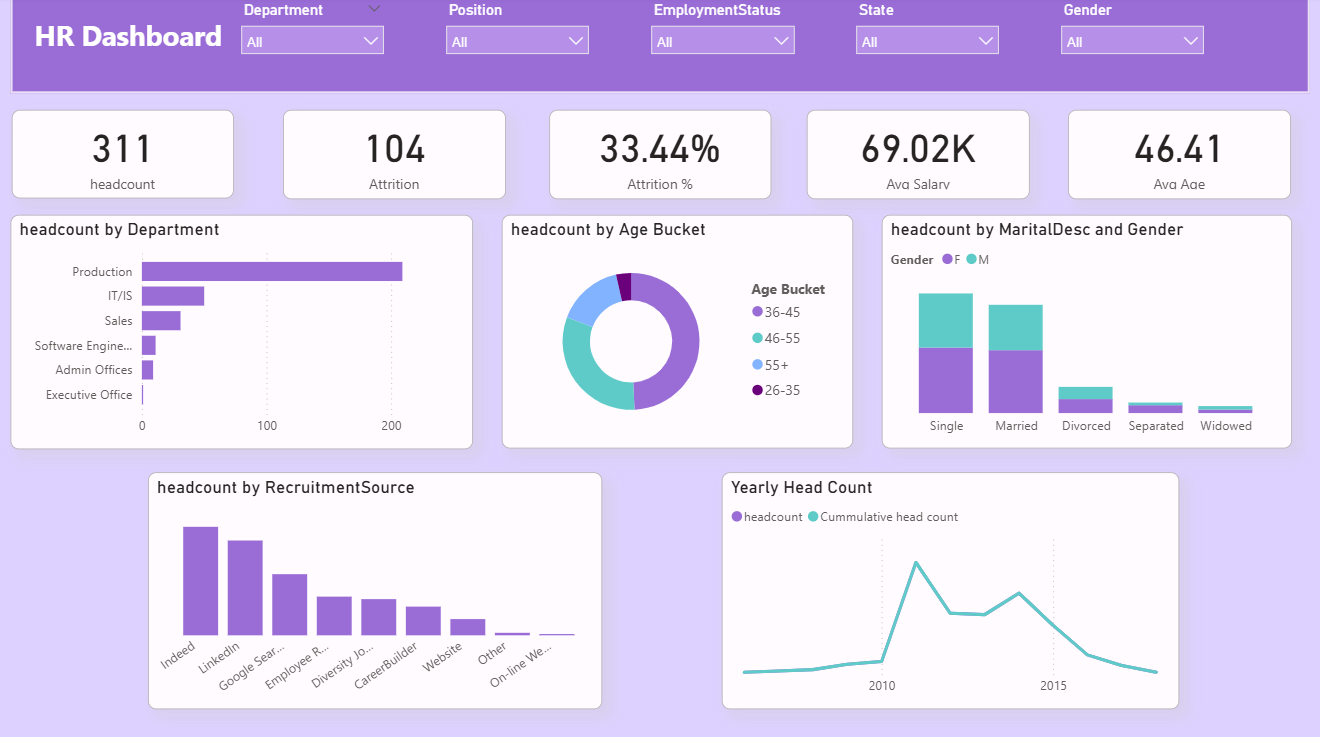

This screenshot's page, from the dashboard's own definition file:
{"tool":"powerbi","page":{"name":"Page 1","canvas":[1280,720],"ordinal":0},"visuals":[{"type":"shape","box":[12,0,1254,94],"z":0},{"type":"card","fields":{"Values":["measure.headcount"]},"box":[12.9,110,214.3,85.7],"z":1000},{"type":"card","fields":{"Values":["measure.Attrition"]},"box":[275.4,109.7,215,86],"z":2000},{"type":"card","fields":{"Values":["measure.Attrition %"]},"box":[532,109.7,214,86],"z":3000},{"type":"card","fields":{"Values":["measure.Avg Salary"]},"box":[780,109.7,215,86],"z":4000},{"type":"card","fields":{"Values":["measure.Avg Age"]},"box":[1032.6,109.7,215,86],"z":5000},{"type":"clusteredBarChart","fields":{"Y":["measure.headcount"],"Category":["HR.Department"]},"box":[12.5,211.1,446.7,226],"z":6000},{"type":"donutChart","fields":{"Category":["HR.Age Bucket"],"Y":["measure.headcount"]},"box":[486.6,211.1,339,225.6],"z":7000},{"type":"columnChart","fields":{"Category":["HR.MaritalDesc"],"Y":["measure.headcount"],"Series":["HR.Gender"]},"box":[853,211.1,395.7,225.6],"z":8000},{"type":"lineChart","title":"Yearly Head Count","fields":{"Y":["measure.headcount","measure.Cummulative head count"],"Category":["HR.DateofHire.Variation.Date Hierarchy.Year","HR.DateofHire.Variation.Date Hierarchy.Quarter","HR.DateofHire.Variation.Date Hierarchy.Month","HR.DateofHire.Variation.Date Hierarchy.Day"]},"box":[698.6,460,441.4,228.6],"z":9000},{"type":"columnChart","fields":{"Y":["measure.headcount"],"Category":["HR.RecruitmentSource"]},"box":[144.3,460,438.6,228.6],"z":10000},{"type":"slicer","fields":{"Values":["HR.Department"]},"box":[224.4,0,158,72],"z":11000},{"type":"slicer","fields":{"Values":["HR.Position"]},"box":[422.2,0,158,72],"z":12000},{"type":"slicer","fields":{"Values":["HR.EmploymentStatus"]},"box":[619.9,0,158.4,71.2],"z":13000},{"type":"slicer","fields":{"Values":["HR.Gender"]},"box":[1015.8,0,158,72],"z":14000},{"type":"slicer","fields":{"Values":["HR.State"]},"box":[818.1,0,158,72],"z":15000},{"type":"textbox","box":[22.9,14.3,204.3,80],"z":16000}]}

Visuals, with their boxes in screenshot pixels (x1, y1, x2, y2), scaled from the page's 1280x720 canvas onto the 1320x737 screenshot:
shape: 12, 0, 1306, 96
card - measure.headcount: 13, 113, 234, 200
card - measure.Attrition: 284, 112, 506, 200
card - measure.Attrition %: 549, 112, 769, 200
card - measure.Avg Salary: 804, 112, 1026, 200
card - measure.Avg Age: 1065, 112, 1287, 200
clusteredBarChart - measure.headcount x HR.Department: 13, 216, 474, 447
donutChart - HR.Age Bucket x measure.headcount: 502, 216, 851, 447
columnChart - HR.MaritalDesc x measure.headcount: 880, 216, 1288, 447
"Yearly Head Count" lineChart: 720, 471, 1176, 705
columnChart - measure.headcount x HR.RecruitmentSource: 149, 471, 601, 705
slicer - HR.Department: 231, 0, 394, 74
slicer - HR.Position: 435, 0, 598, 74
slicer - HR.EmploymentStatus: 639, 0, 803, 73
slicer - HR.Gender: 1048, 0, 1210, 74
slicer - HR.State: 844, 0, 1007, 74
textbox: 24, 15, 234, 97
